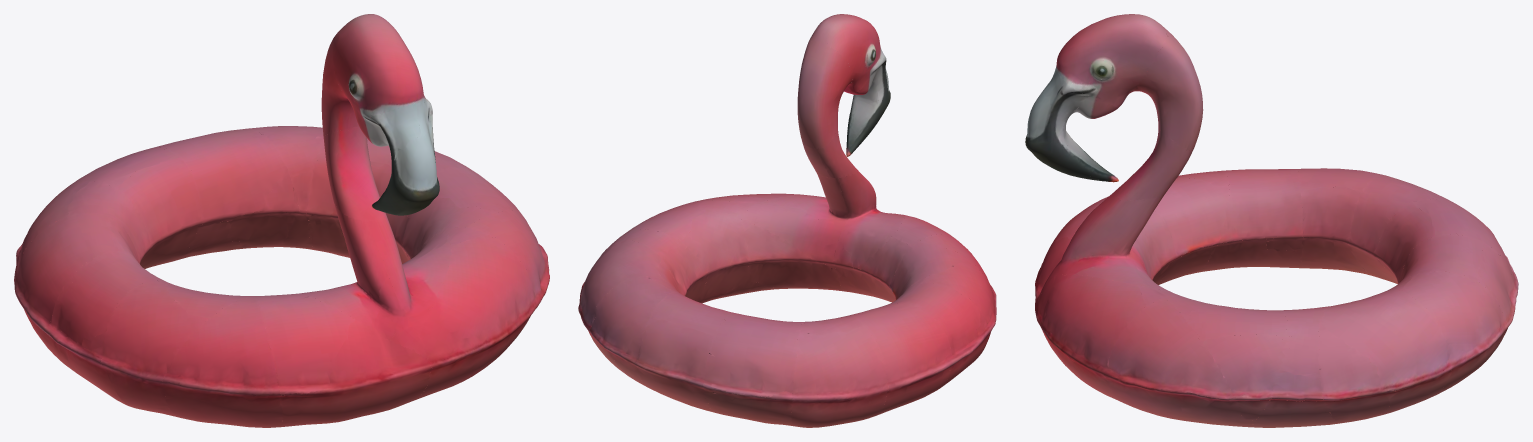
The model's file is fkamingo_float.glb.
The picture shows the model from 3 angles, left to right: view 1: azimuth 30°, elevation 25°; view 2: azimuth 150°, elevation 25°; view 3: azimuth 270°, elevation 25°; orthographic projection. The views are drawn at different scales.
Parts seen in each view (by area): view 1: Pink Flamingo Pool Float_Material_0; view 2: Pink Flamingo Pool Float_Material_0; view 3: Pink Flamingo Pool Float_Material_0.
Part boxes in pixels (<box>): Pink Flamingo Pool Float_Material_0: <box>14,14,549,427</box>; Pink Flamingo Pool Float_Material_0: <box>578,14,996,427</box>; Pink Flamingo Pool Float_Material_0: <box>1025,14,1518,427</box>.
Bounding box in the file's own units: 0.9299 × 0.7106 × 0.9314.
Materials: 1 (1 with a texture image).
